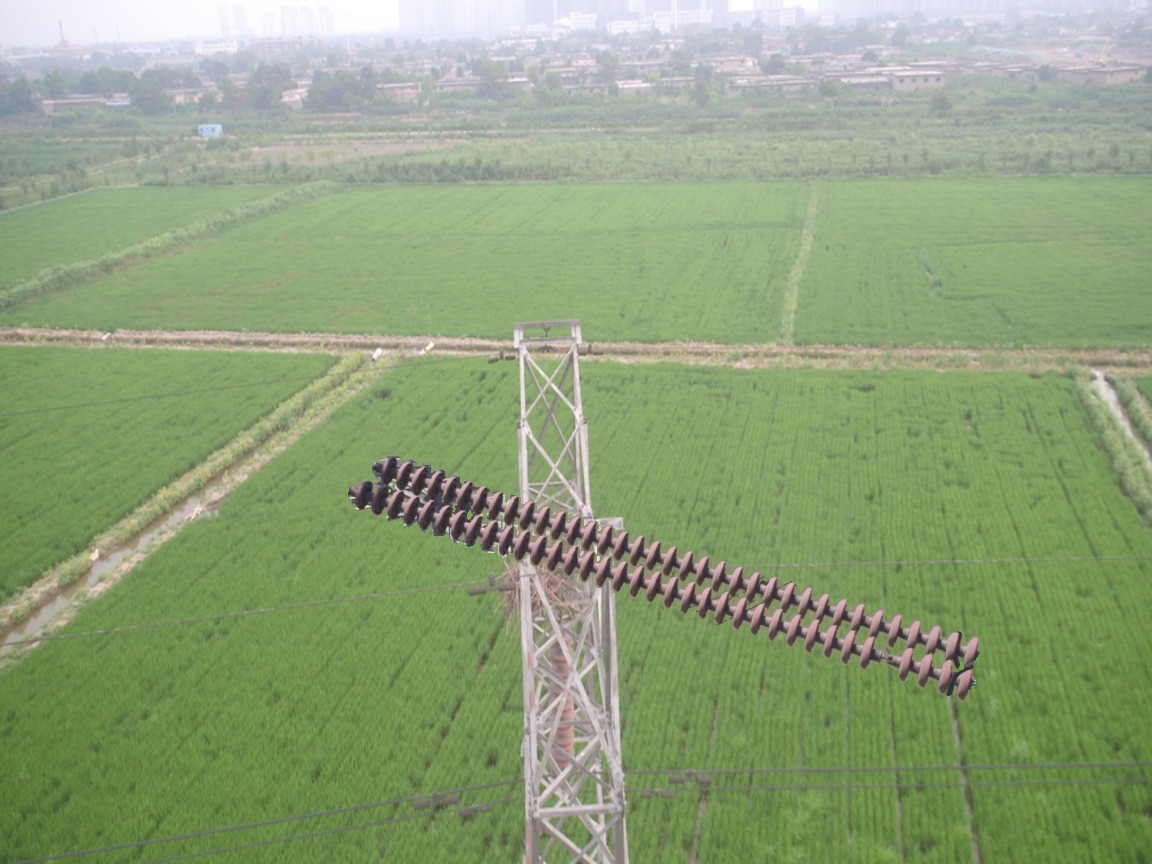defect: (855, 637, 917, 683)
